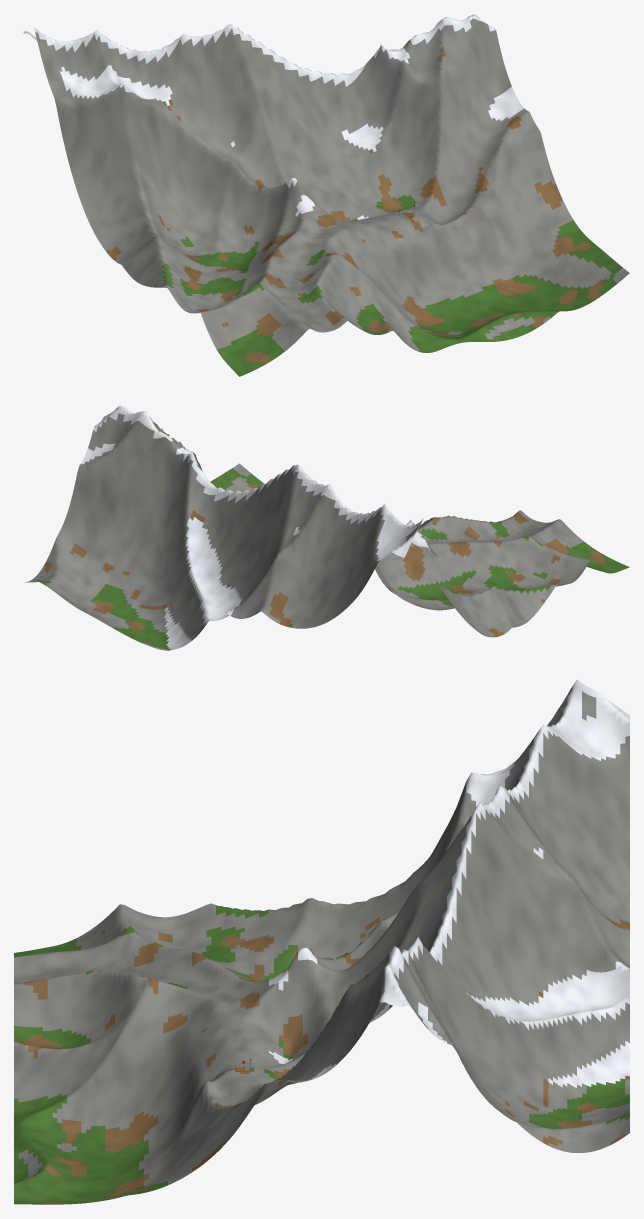
Rendered from chunk_3_0.glb.
3 renders of one model, top to bottom at view 1: azimuth 30°, elevation 25°; view 2: azimuth 150°, elevation 25°; view 3: azimuth 270°, elevation 25°, orthographic. The views are drawn at different scales.
Parts seen in each view (by area): view 1: Surface_Gravel, Surface_Grass, Surface_Dirt, Surface_Snow; view 2: Surface_Gravel, Surface_Snow, Surface_Grass, Surface_Dirt; view 3: Surface_Gravel, Surface_Snow, Surface_Grass, Surface_Dirt.
Part boxes in pixels (bbox=[...]): Surface_Gravel: bbox=[35, 18, 629, 351]; Surface_Grass: bbox=[161, 194, 622, 376]; Surface_Dirt: bbox=[106, 45, 604, 363]; Surface_Snow: bbox=[23, 14, 523, 219]; Surface_Gravel: bbox=[25, 413, 595, 650]; Surface_Snow: bbox=[81, 405, 430, 650]; Surface_Grass: bbox=[33, 468, 629, 648]; Surface_Dirt: bbox=[44, 432, 607, 650]; Surface_Gravel: bbox=[14, 687, 629, 1187]; Surface_Snow: bbox=[269, 679, 629, 1087]; Surface_Grass: bbox=[14, 905, 629, 1204]; Surface_Dirt: bbox=[14, 913, 629, 1204].
Size of the model in its own units: 256 by 144 by 256.
